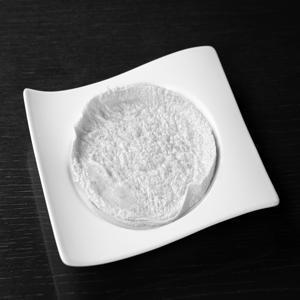omelet: (61, 84, 231, 225)
